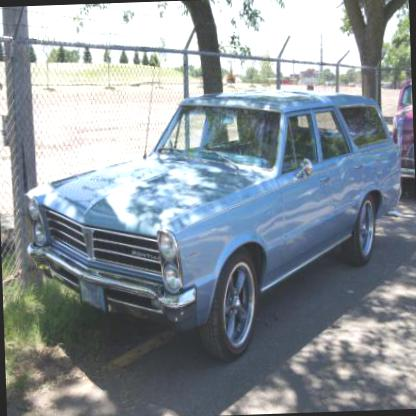car: (19, 90, 407, 367), (390, 74, 414, 186)
